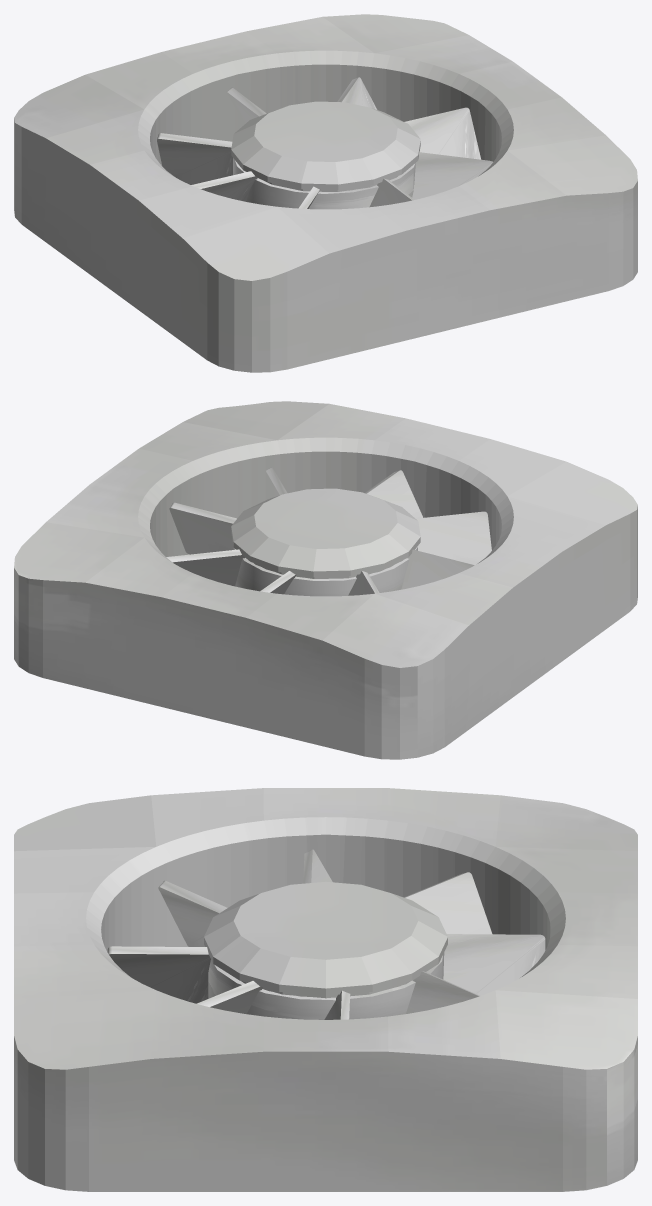
The model's file is Fan.fbx.
The picture shows the model from 3 angles, top to bottom: view 1: azimuth 30°, elevation 25°; view 2: azimuth 150°, elevation 25°; view 3: azimuth 270°, elevation 25°; orthographic projection. The views are drawn at different scales.
Parts seen in each view (by area): view 1: Outer_Body, Propellers; view 2: Outer_Body, Propellers; view 3: Outer_Body, Propellers.
Boxes of the visible parts, x1=… form: Outer_Body: x1=14, y1=14, x2=637, y2=372; Propellers: x1=157, y1=77, x2=492, y2=209; Outer_Body: x1=14, y1=401, x2=637, y2=759; Propellers: x1=166, y1=467, x2=491, y2=596; Outer_Body: x1=14, y1=788, x2=637, y2=1191; Propellers: x1=107, y1=849, x2=545, y2=1019.
Size of the model in its own units: 250 by 62.56 by 250.
Materials: 1 (1 with a texture image).
